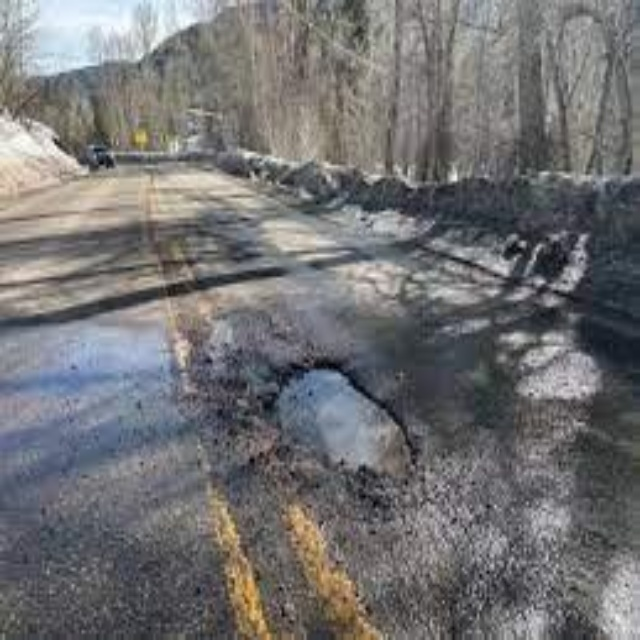pothole: (227, 323, 430, 521)
